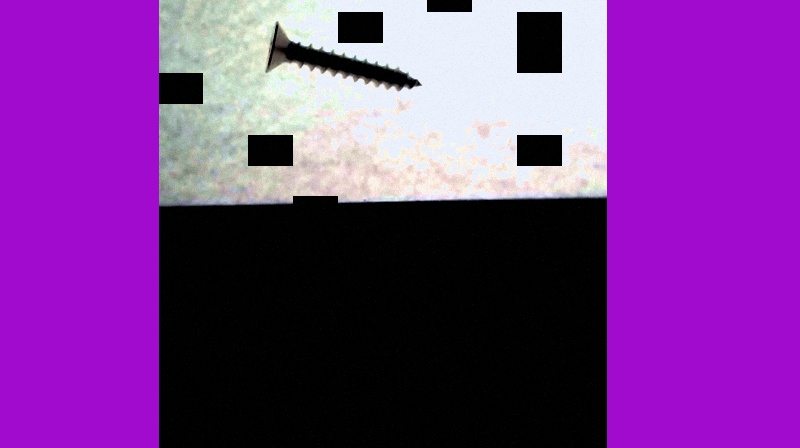S001: (259, 17, 423, 92)
